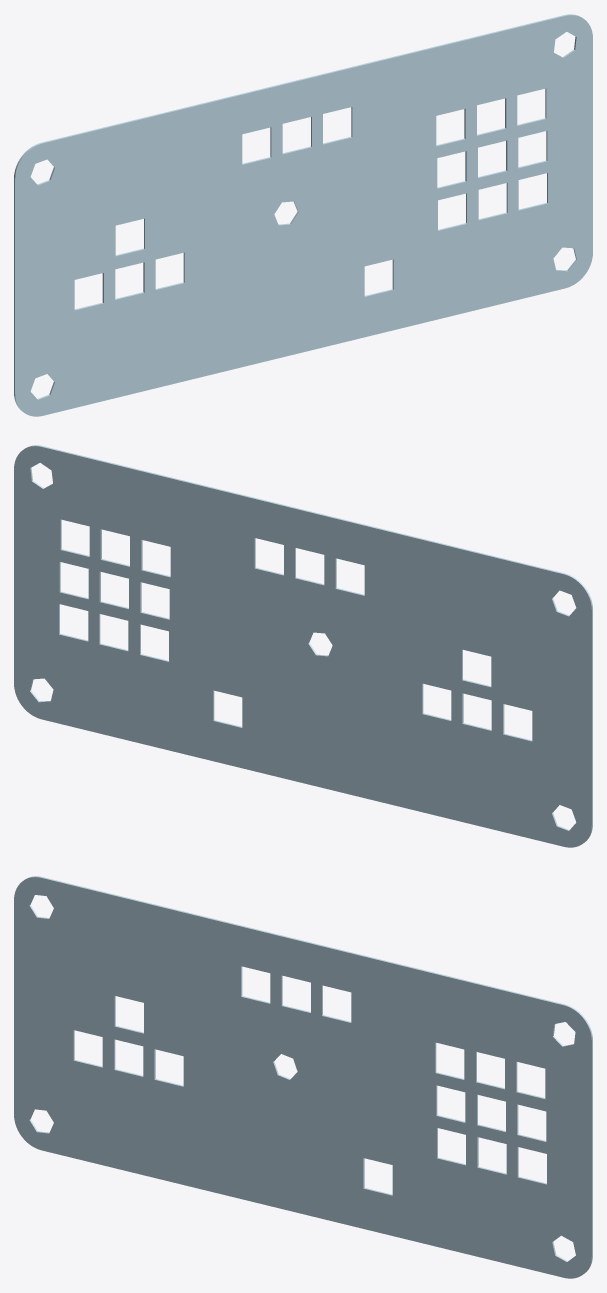
The model's file is Mixbox Layout Top.gltf.
The picture shows the model from 3 angles, top to bottom: view 1: azimuth 30°, elevation 25°; view 2: azimuth 150°, elevation 25°; view 3: azimuth 330°, elevation 25°; orthographic projection.
Visible parts, largest first — view 1: Part 1; view 2: Part 1; view 3: Part 1.
Boxes of the visible parts, x1,y1,x2,y2 form: Part 1: [14, 14, 592, 416]; Part 1: [14, 445, 592, 847]; Part 1: [14, 876, 592, 1278].
Bounding box in the file's own units: 0.2969 × 0.1338 × 0.001.
